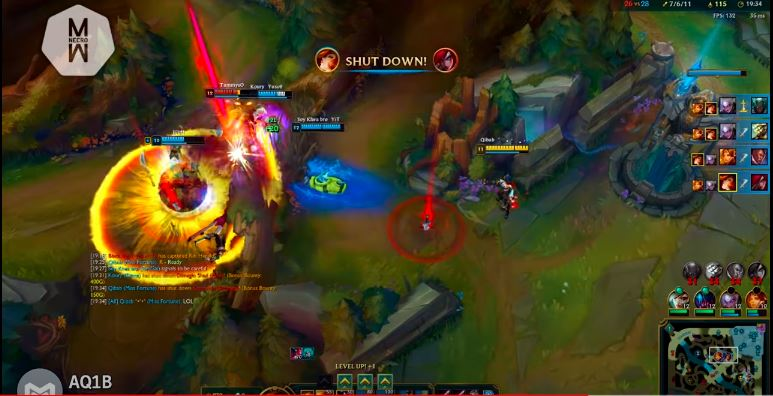bar: (205, 86, 274, 101), (150, 131, 209, 147), (237, 85, 294, 101), (288, 119, 347, 134), (475, 141, 533, 155)
